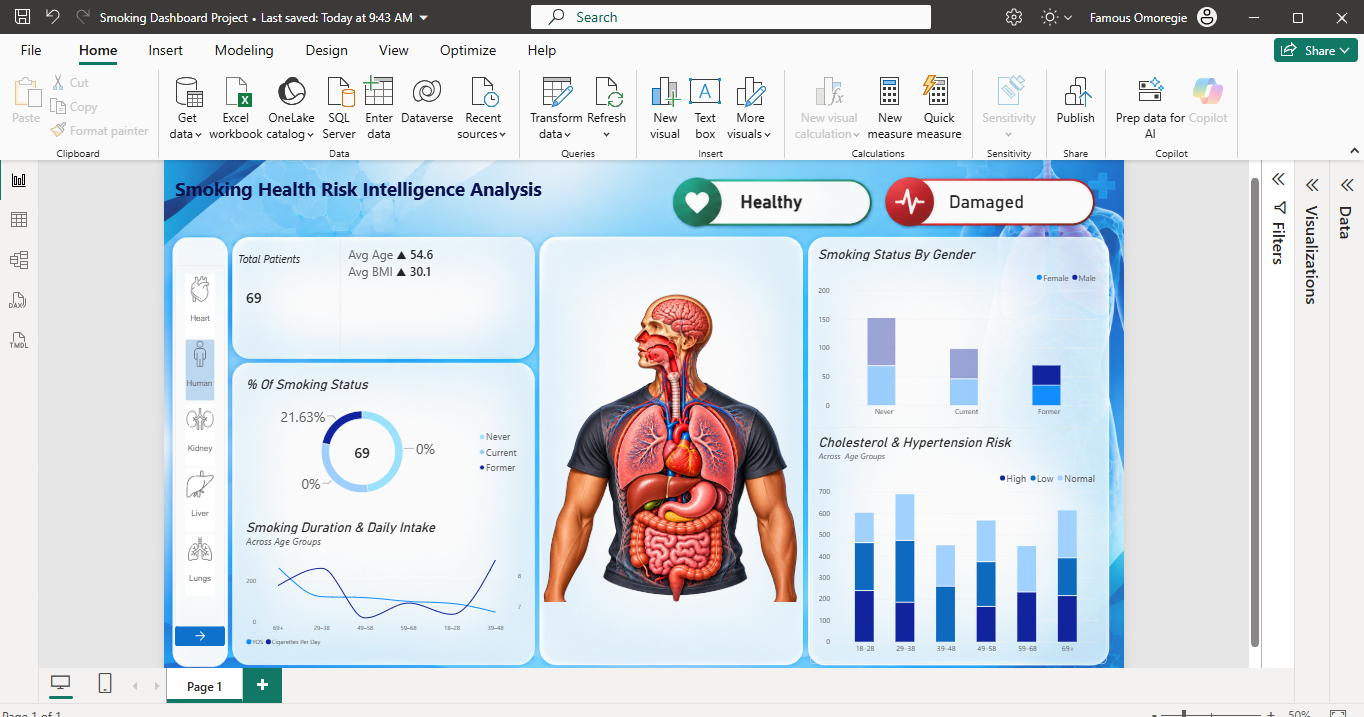

What the dashboard file says about the page in this screenshot:
{"tool":"powerbi","page":{"name":"Page 1","canvas":[1920,1080],"ordinal":0},"visuals":[{"type":"advancedSlicerVisual","fields":{"Values":["condition.Organ_Condition"]},"box":[1003.5,51,852.5,102],"z":0},{"type":"cardVisual","fields":{"Data":["CountNonNull(health_dataset.Patient_ID)"]},"box":[148.8,178.6,582.5,231.7],"z":1000},{"type":"textbox","box":[148.8,202,244.5,27.6],"z":2000},{"type":"actionButton","box":[21.3,952.4,99.9,40.4],"z":3000},{"type":"ChicletSlicer1448559807354","fields":{"Category":["Organs.Organ"],"Image":["Organs.Icon_URL"]},"box":[21.3,229.6,99.9,722.8],"z":4000},{"type":"image","box":[756.9,178.6,514.5,835.5],"z":5000},{"type":"donutChart","title":"% Of Smoking Status","fields":{"Category":["health_dataset.Smoking_Status"],"Y":["CountNonNull(health_dataset.Smoking_Status)"]},"box":[148.8,438,582.5,287],"z":6000},{"type":"lineChart","title":"Smoking Duration & Daily Intake","fields":{"Category":["health_dataset.Age Group"],"Y":["Sum(health_dataset.Years_of_Smoking)"],"Y2":["Avg(health_dataset.Cigarettes_Per_Day)"]},"box":[148.8,725,582.5,289.1],"z":7000},{"type":"ribbonChart","title":"Smoking Status By Gender","fields":{"Category":["health_dataset.Smoking_Status"],"Series":["health_dataset.Gender"],"Y":["CountNonNull(health_dataset.Patient_ID)"]},"box":[1292.6,178.6,593.1,376.3],"z":7001},{"type":"columnChart","title":"Cholesterol & Hypertension Risk","fields":{"Category":["health_dataset.Age Group"],"Series":["health_dataset.BP_Risk"],"Y":["Avg(health_dataset.Cholesterol_Level)"]},"box":[1292.6,554.9,593.1,474.1],"z":7002},{"type":"textbox","box":[21.3,51,778.1,102],"z":7003}]}

Visuals, with their boxes on the page's 1920x1080 design canvas (x1, y1, x2, y2). These are canvas units, not pixel positions in the 1364x717 screenshot, which may show the page scaled, cropped or inside an application window:
advancedSlicerVisual - condition.Organ_Condition: <region>1004, 51, 1856, 153</region>
cardVisual - CountNonNull(health_dataset.Patient_ID): <region>149, 179, 731, 410</region>
textbox: <region>149, 202, 393, 230</region>
actionButton: <region>21, 952, 121, 993</region>
ChicletSlicer1448559807354 - Organs.Organ x Organs.Icon_URL: <region>21, 230, 121, 952</region>
image: <region>757, 179, 1271, 1014</region>
"% Of Smoking Status" donutChart: <region>149, 438, 731, 725</region>
"Smoking Duration & Daily Intake" lineChart: <region>149, 725, 731, 1014</region>
"Smoking Status By Gender" ribbonChart: <region>1293, 179, 1886, 555</region>
"Cholesterol & Hypertension Risk" columnChart: <region>1293, 555, 1886, 1029</region>
textbox: <region>21, 51, 799, 153</region>
